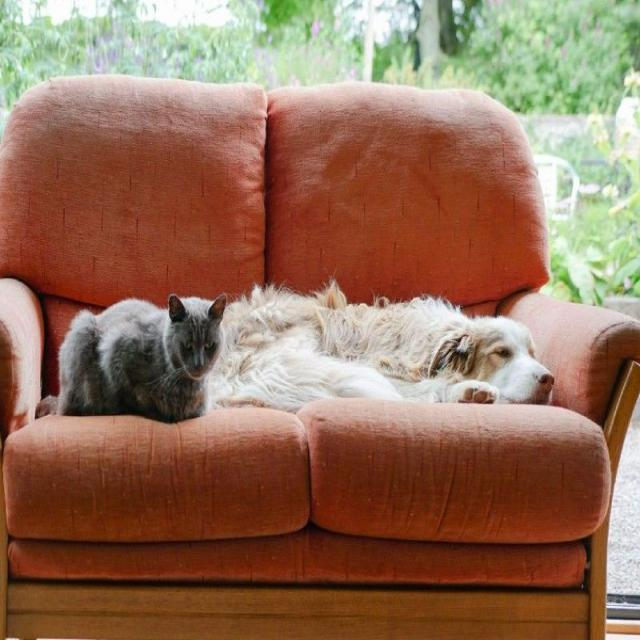cat: (50, 292, 232, 425)
dog: (188, 268, 563, 426)
